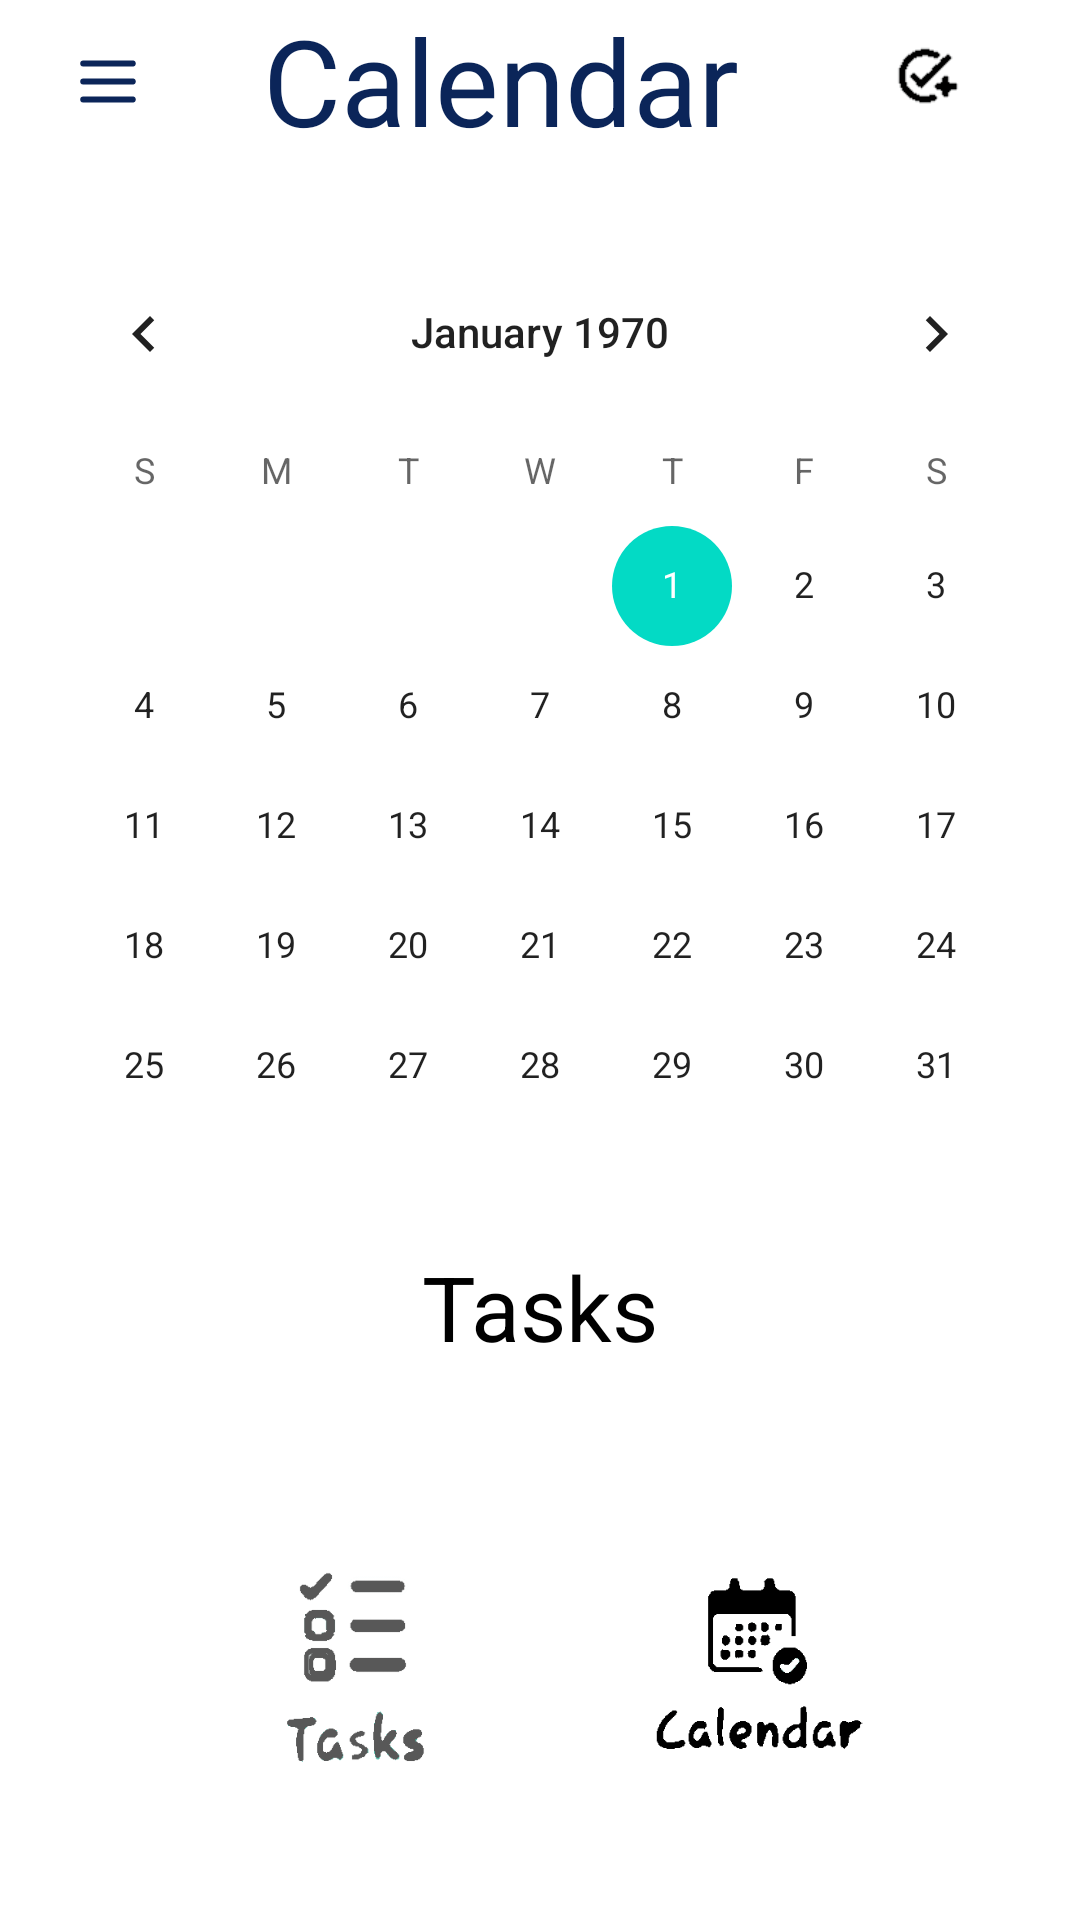

Icon click points for this 1080px x 1920px phone screenshot, format point (x, y):
add task: point (928, 76)
burger menu: point (108, 81)
